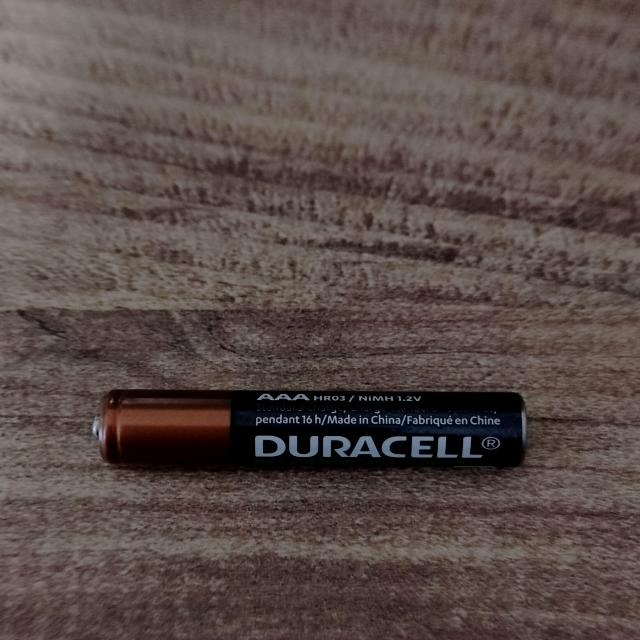AAA: (92, 388, 527, 468)
